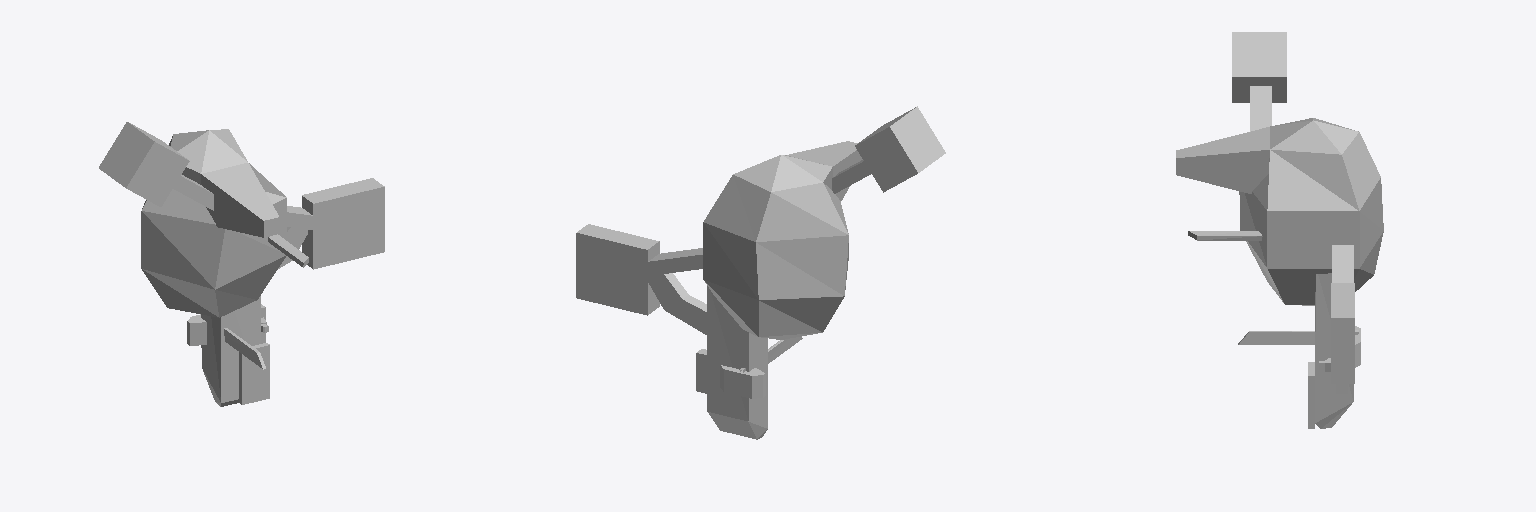
The model's file is ss304_bound.obj.
The picture shows the model from 3 angles: view 1: azimuth 30°, elevation 25°; view 2: azimuth 150°, elevation 25°; view 3: azimuth 270°, elevation 25°; orthographic projection.
Parts seen in each view (by area): view 1: frm-bound01, frm-bound05, frm-bound09, frm-bound12, frm-bound02, frm-bound04, frm-bound08, frm-bound10, frm-bound13, frm-bound11; view 2: frm-bound01, frm-bound05, frm-bound02, frm-bound09, frm-bound07, frm-bound12, frm-bound13, frm-bound06, frm-bound08; view 3: frm-bound01, frm-bound12, frm-bound09, frm-bound02, frm-bound05, frm-bound10, frm-bound08, frm-bound06, frm-bound11.
Part boxes in pixels (x1,y1,x2,y2): frm-bound01: (141,129,286,317); frm-bound05: (302,178,384,269); frm-bound09: (99,122,189,206); frm-bound12: (201,163,279,237); frm-bound02: (201,296,260,406); frm-bound04: (239,343,269,404); frm-bound08: (173,175,213,210); frm-bound10: (224,328,265,369); frm-bound13: (187,314,206,345); frm-bound11: (268,234,308,267); frm-bound01: (703,155,848,339); frm-bound05: (576,224,659,315); frm-bound02: (707,286,767,439); frm-bound09: (855,106,945,192); frm-bound07: (648,273,707,335); frm-bound12: (787,141,862,200); frm-bound13: (720,365,765,398); frm-bound06: (648,248,702,275); frm-bound08: (832,160,871,193); frm-bound01: (1239,118,1383,305); frm-bound12: (1176,127,1269,193); frm-bound09: (1232,32,1286,102); frm-bound02: (1315,273,1353,428); frm-bound05: (1331,283,1354,383); frm-bound10: (1238,330,1358,344); frm-bound08: (1250,86,1271,131); frm-bound06: (1332,245,1353,282); frm-bound11: (1188,231,1262,240).
Bounding box in the file's own units: 122 × 123 × 71.44.